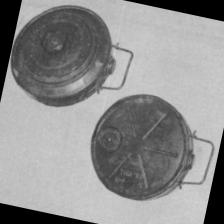TM-46: (79, 81, 224, 224), (0, 0, 118, 119)
